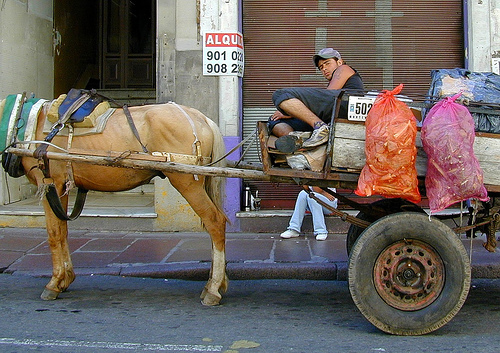horse: (0, 87, 241, 308)
